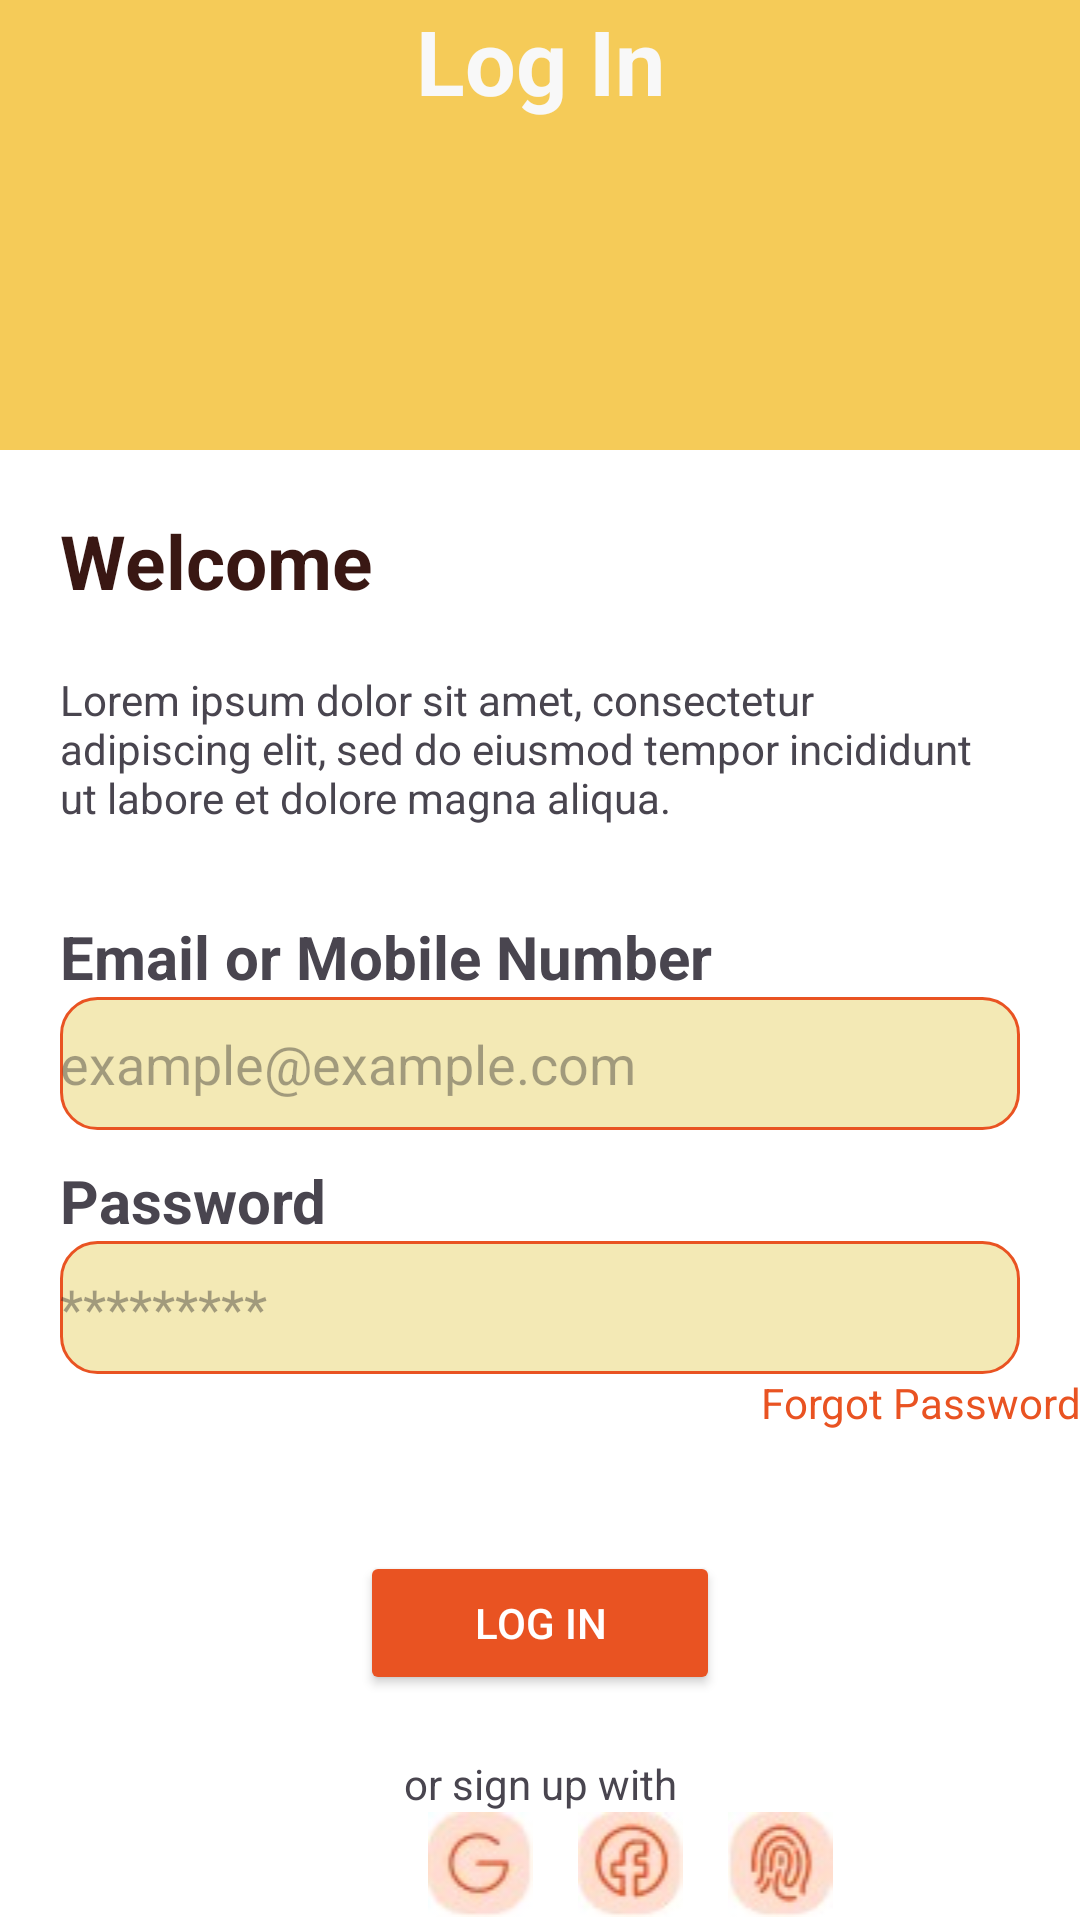

Icons on this 1080*1920 Android screen, each with the point to tap as point (x, y):
finger: point (781, 1863)
